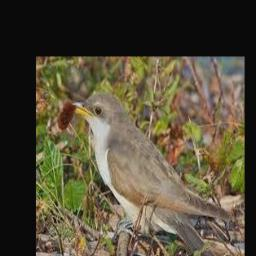Cuckoo: (72, 93, 242, 256)
